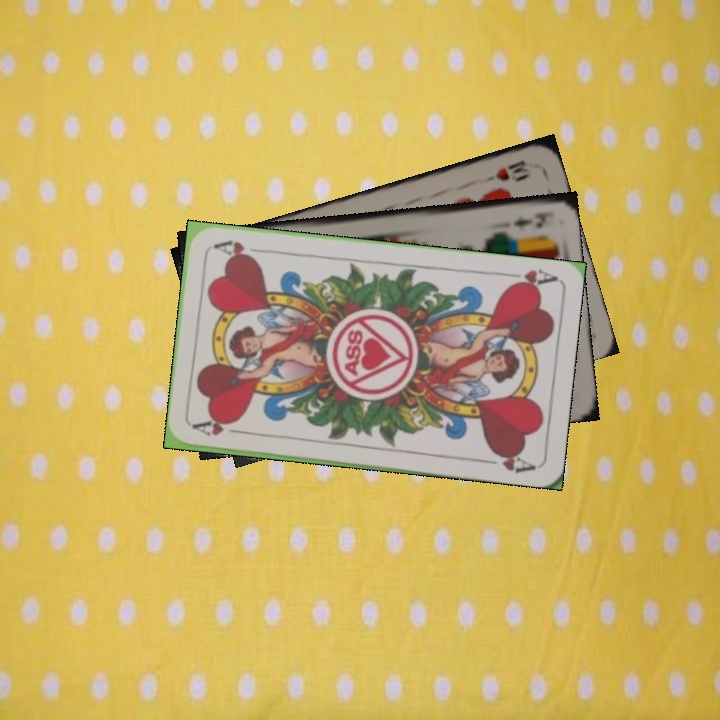EK: (509, 208, 552, 232)
H10: (491, 156, 532, 184)
HA: (498, 265, 558, 292), (191, 416, 250, 439)
